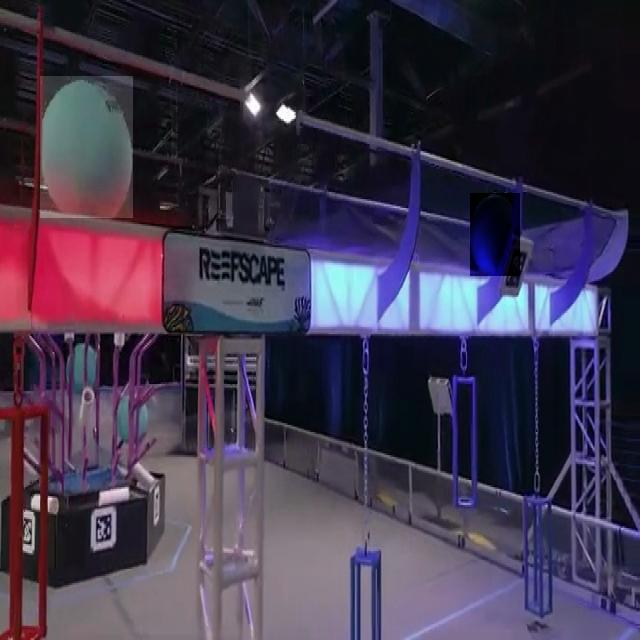Algae: (40, 76, 133, 218), (470, 193, 520, 276)
